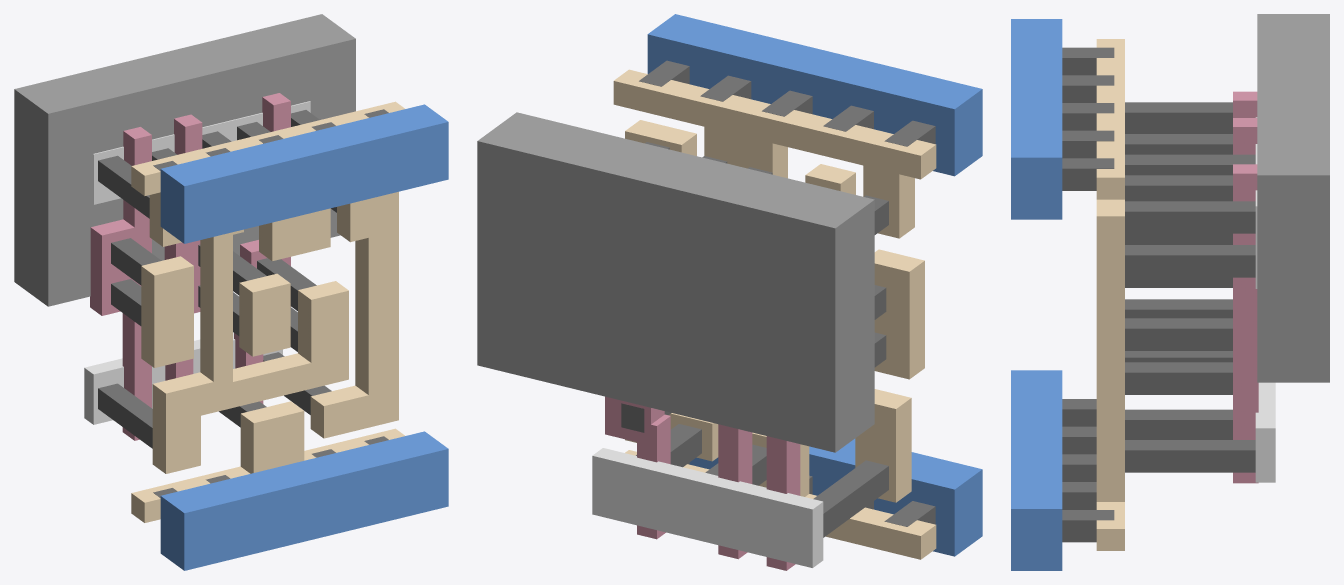
Rendered from sky130_fd_sc_hd__and2_0.gds.gltf.
The picture shows the model from 3 angles, left to right: view 1: azimuth 30°, elevation 25°; view 2: azimuth 150°, elevation 25°; view 3: azimuth 270°, elevation 25°; orthographic projection. The views are drawn at different scales.
Visible parts, largest first — view 1: sky130_fd_sc_hd__and2_0_li1, sky130_fd_sc_hd__and2_0_met1, sky130_fd_sc_hd__and2_0_nwell, sky130_fd_sc_hd__and2_0_licon, sky130_fd_sc_hd__and2_0_poly, sky130_fd_sc_hd__and2_0_diff, sky130_fd_sc_hd__and2_0_mcon; view 2: sky130_fd_sc_hd__and2_0_nwell, sky130_fd_sc_hd__and2_0_li1, sky130_fd_sc_hd__and2_0_met1, sky130_fd_sc_hd__and2_0_diff, sky130_fd_sc_hd__and2_0_poly, sky130_fd_sc_hd__and2_0_licon, sky130_fd_sc_hd__and2_0_mcon; view 3: sky130_fd_sc_hd__and2_0_licon, sky130_fd_sc_hd__and2_0_nwell, sky130_fd_sc_hd__and2_0_met1, sky130_fd_sc_hd__and2_0_li1, sky130_fd_sc_hd__and2_0_mcon, sky130_fd_sc_hd__and2_0_poly, sky130_fd_sc_hd__and2_0_diff.
Part boxes in pixels (x1,y1,x2,y2): sky130_fd_sc_hd__and2_0_li1: (131,101,404,522); sky130_fd_sc_hd__and2_0_met1: (160,104,448,570); sky130_fd_sc_hd__and2_0_nwell: (14,14,355,306); sky130_fd_sc_hd__and2_0_licon: (98,110,336,448); sky130_fd_sc_hd__and2_0_poly: (90,93,290,440); sky130_fd_sc_hd__and2_0_diff: (84,101,310,424); sky130_fd_sc_hd__and2_0_mcon: (153,109,388,497); sky130_fd_sc_hd__and2_0_nwell: (477,112,874,452); sky130_fd_sc_hd__and2_0_li1: (613,69,936,559); sky130_fd_sc_hd__and2_0_met1: (647,14,982,556); sky130_fd_sc_hd__and2_0_diff: (592,448,823,567); sky130_fd_sc_hd__and2_0_poly: (605,396,800,570); sky130_fd_sc_hd__and2_0_licon: (621,142,888,537); sky130_fd_sc_hd__and2_0_mcon: (639,60,935,526); sky130_fd_sc_hd__and2_0_licon: (1125,102,1255,472); sky130_fd_sc_hd__and2_0_nwell: (1257,14,1329,382); sky130_fd_sc_hd__and2_0_met1: (1011,19,1062,570); sky130_fd_sc_hd__and2_0_li1: (1096,39,1124,550); sky130_fd_sc_hd__and2_0_mcon: (1062,47,1114,542); sky130_fd_sc_hd__and2_0_poly: (1233,91,1258,483); sky130_fd_sc_hd__and2_0_diff: (1255,117,1275,482).
Size of the model in its own units: 2.68 by 3.2 by 2.24.
